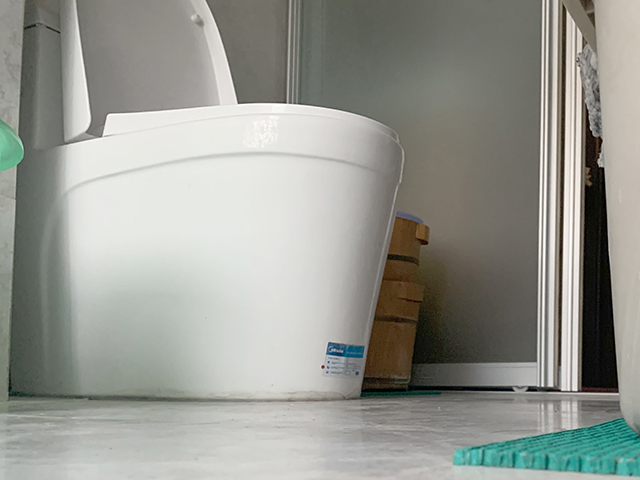closestool: (10, 1, 403, 402)
